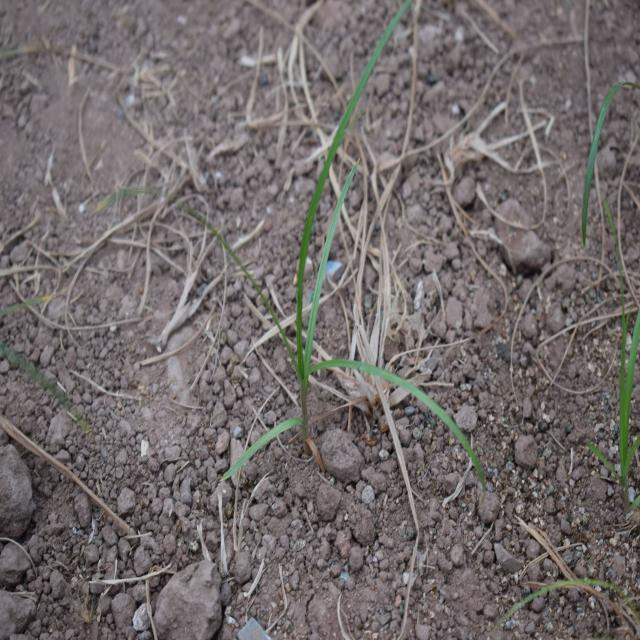sedge: (174, 48, 466, 549)
